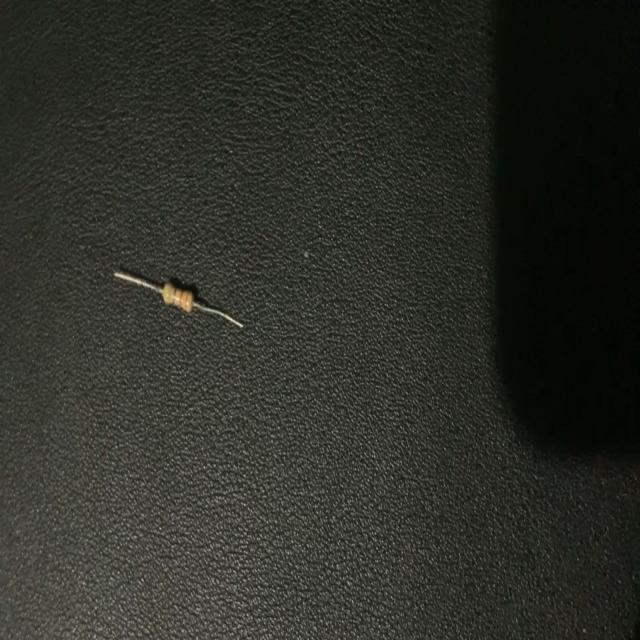resistor: (114, 262, 244, 334)
